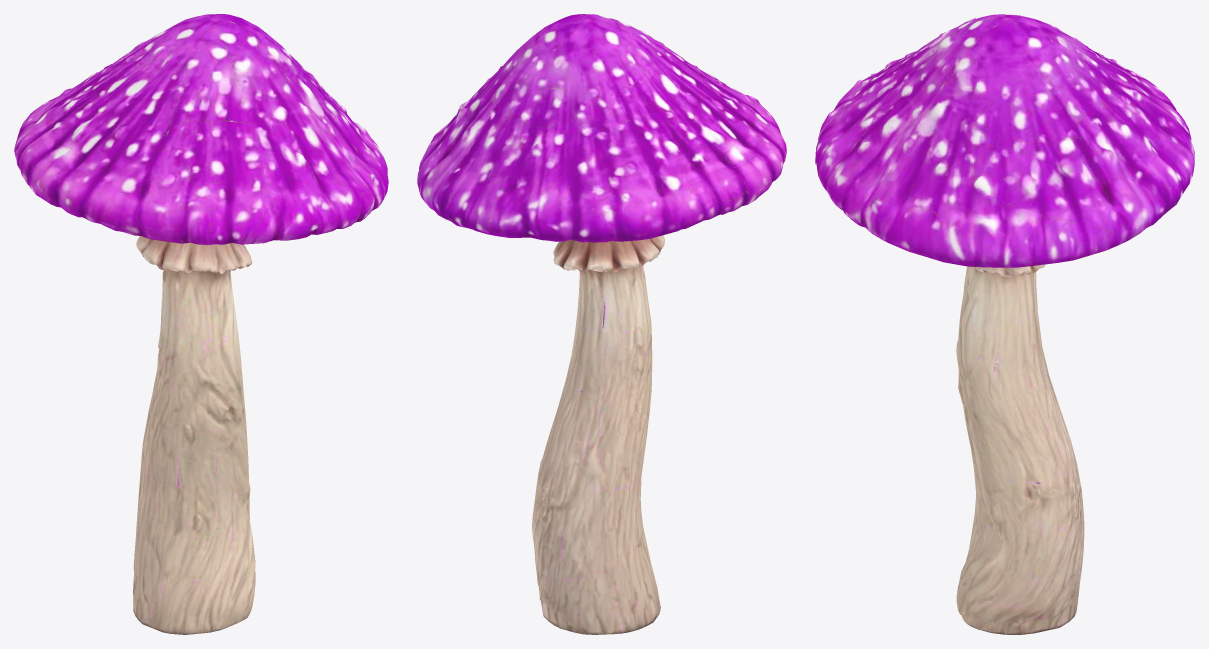
Rendered from mushroom4.glb.
The picture shows the model from 3 angles, left to right: view 1: azimuth 30°, elevation 25°; view 2: azimuth 150°, elevation 25°; view 3: azimuth 270°, elevation 25°; orthographic projection. The views are drawn at different scales.
Size of the model in its own units: 1.11 by 1.9 by 1.09.
Materials: 1 (1 with a texture image).
